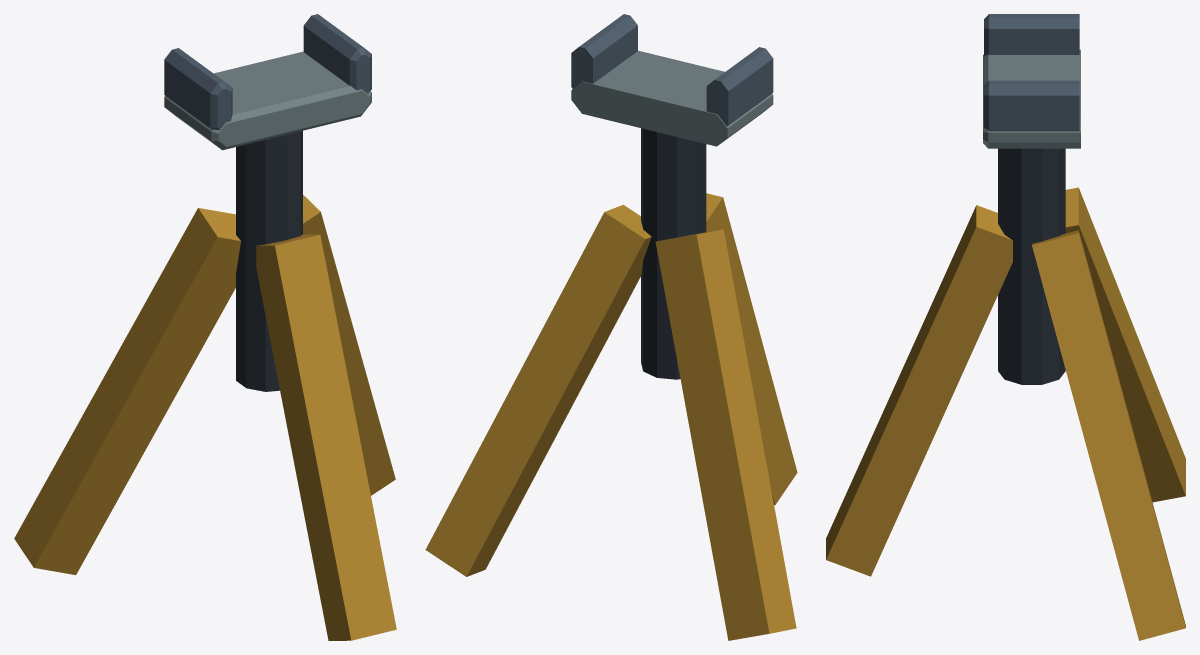
The model's file is T-03_jack_stand.glb.
The picture shows the model from 3 angles, left to right: view 1: azimuth 30°, elevation 25°; view 2: azimuth 150°, elevation 25°; view 3: azimuth 270°, elevation 25°; orthographic projection. The views are drawn at different scales.
Parts seen in each view (by area): view 1: T-03_jack_stand; view 2: T-03_jack_stand; view 3: T-03_jack_stand.
Part boxes in pixels (left/top/right/bottom): T-03_jack_stand: left=14, top=14, right=396, bottom=640; T-03_jack_stand: left=425, top=14, right=797, bottom=640; T-03_jack_stand: left=826, top=14, right=1185, bottom=640.
Bounding box in the file's own units: 0.39 × 0.5472 × 0.3415.
